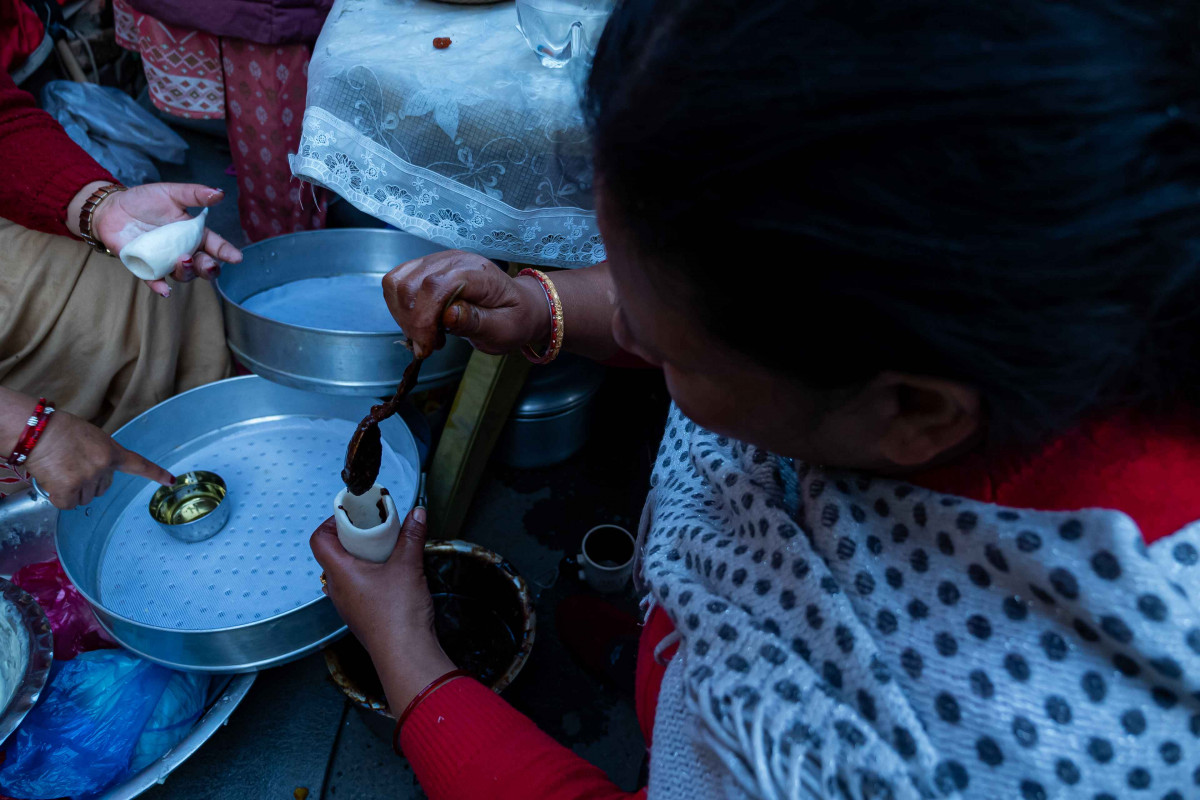yomari: (114, 202, 216, 292), (328, 474, 406, 556)
